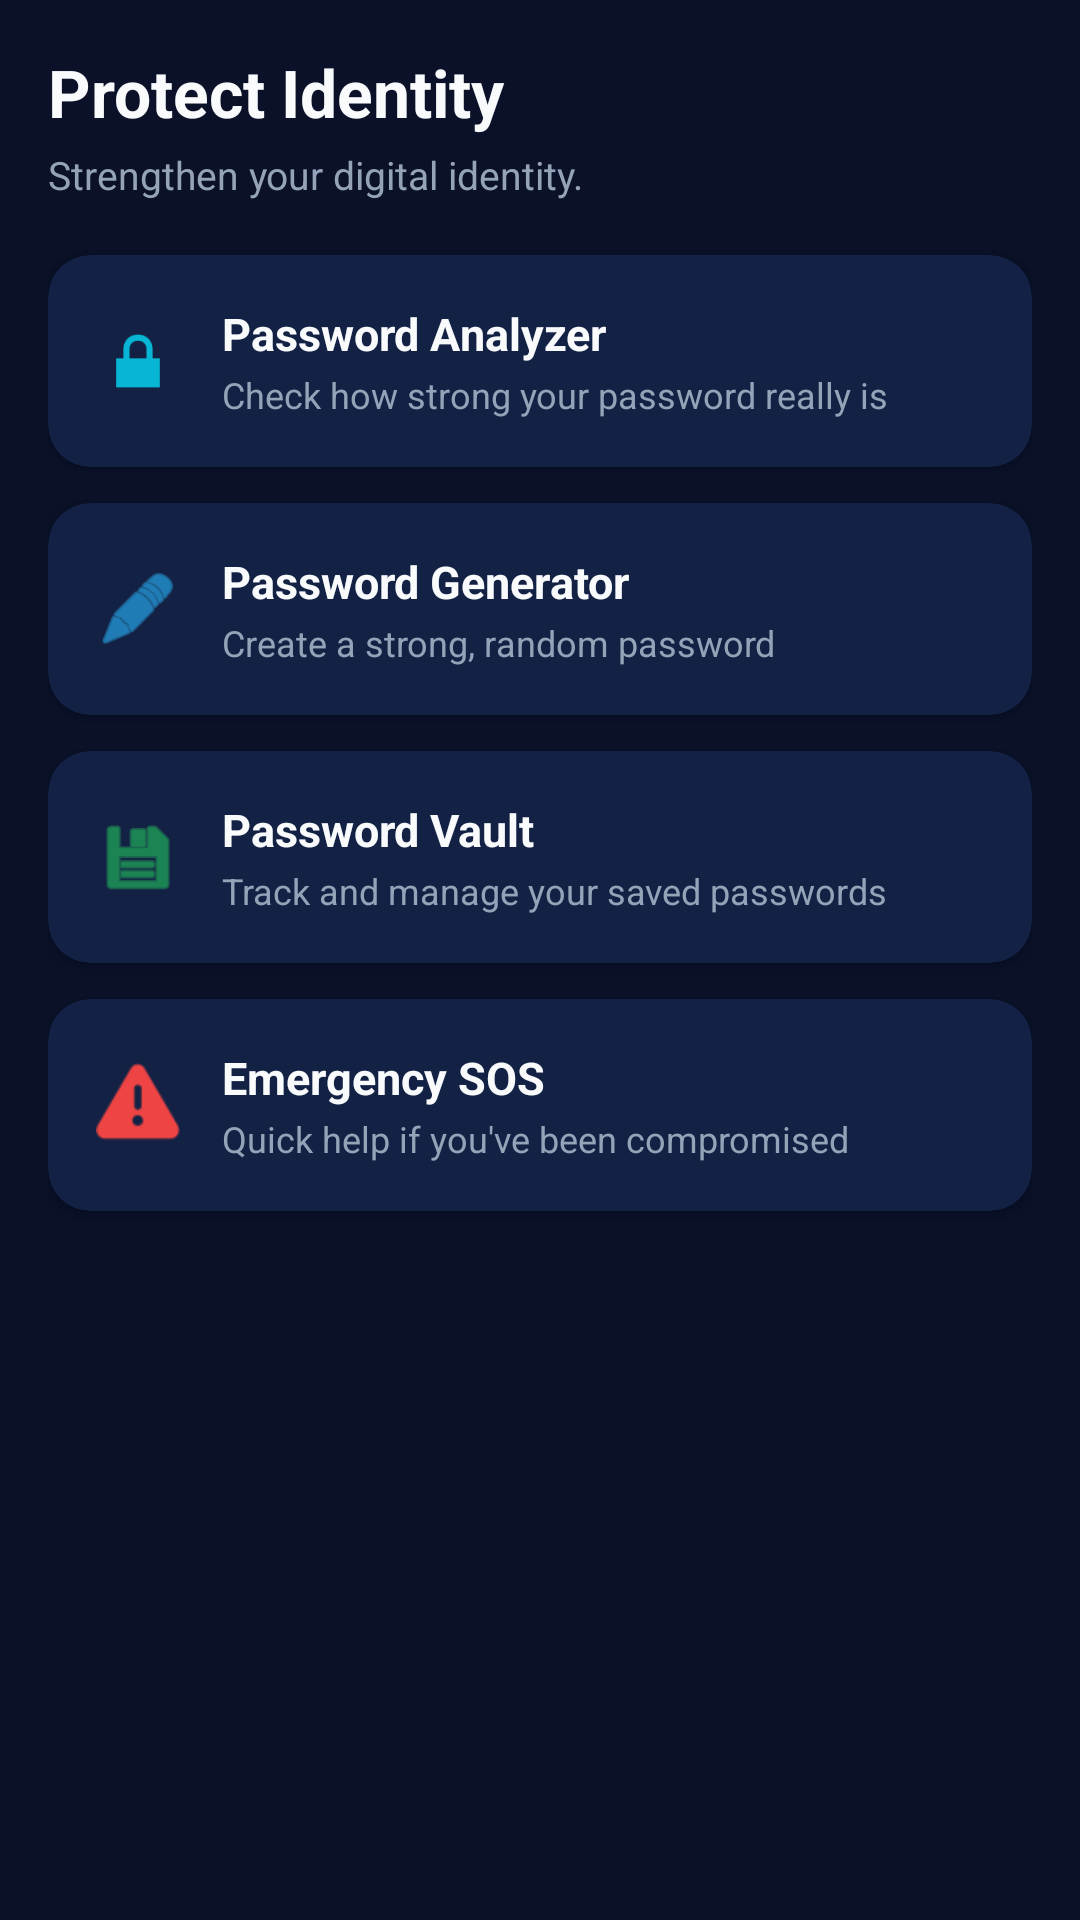

Where to tap for icons on this 1080x1920 app screen, as (x=x, y=y):
alert: (x=138, y=1101)
edit: (x=137, y=608)
lock: (x=138, y=361)
